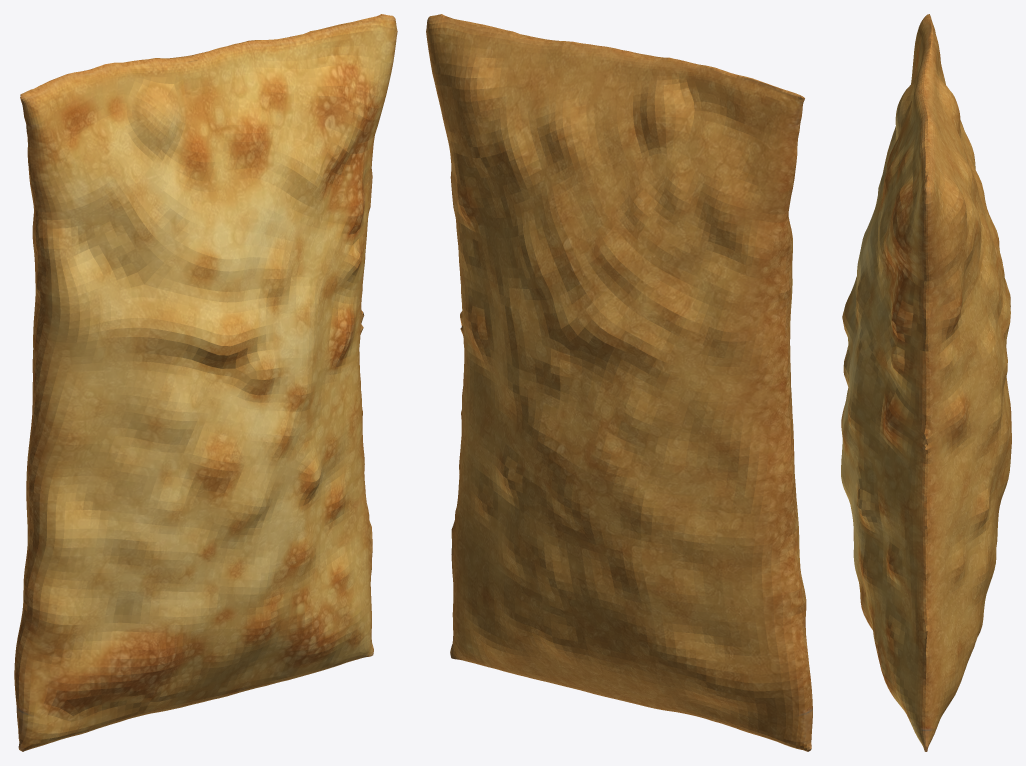
File: pastel_texture.fbx
The picture shows the model from 3 angles, left to right: view 1: azimuth 30°, elevation 25°; view 2: azimuth 150°, elevation 25°; view 3: azimuth 270°, elevation 25°; orthographic projection. The views are drawn at different scales.
Visible parts, largest first — view 1: temp; view 2: temp; view 3: temp.
Part boxes in pixels (x1,y1,x2,y2): temp: (14,14,397,751); temp: (426,14,812,751); temp: (841,14,1011,751).
Size of the model in its own units: 114 by 189 by 48.83.
Materials: 1 (1 with a texture image).
